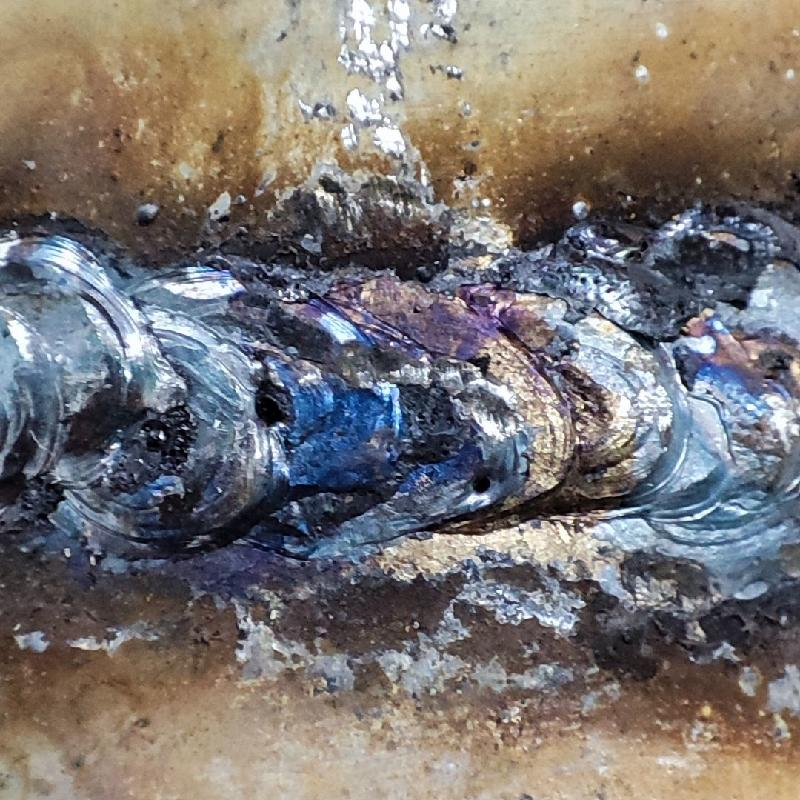Surface_pores: (237, 365, 320, 452), (453, 456, 507, 510)
